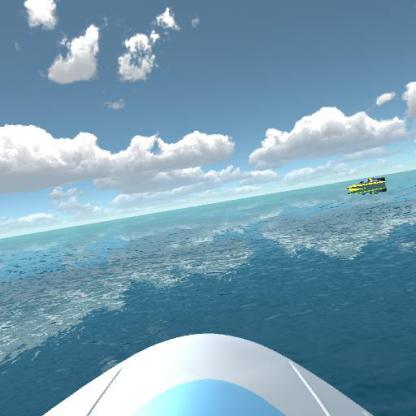usv2: (342, 169, 390, 196)
